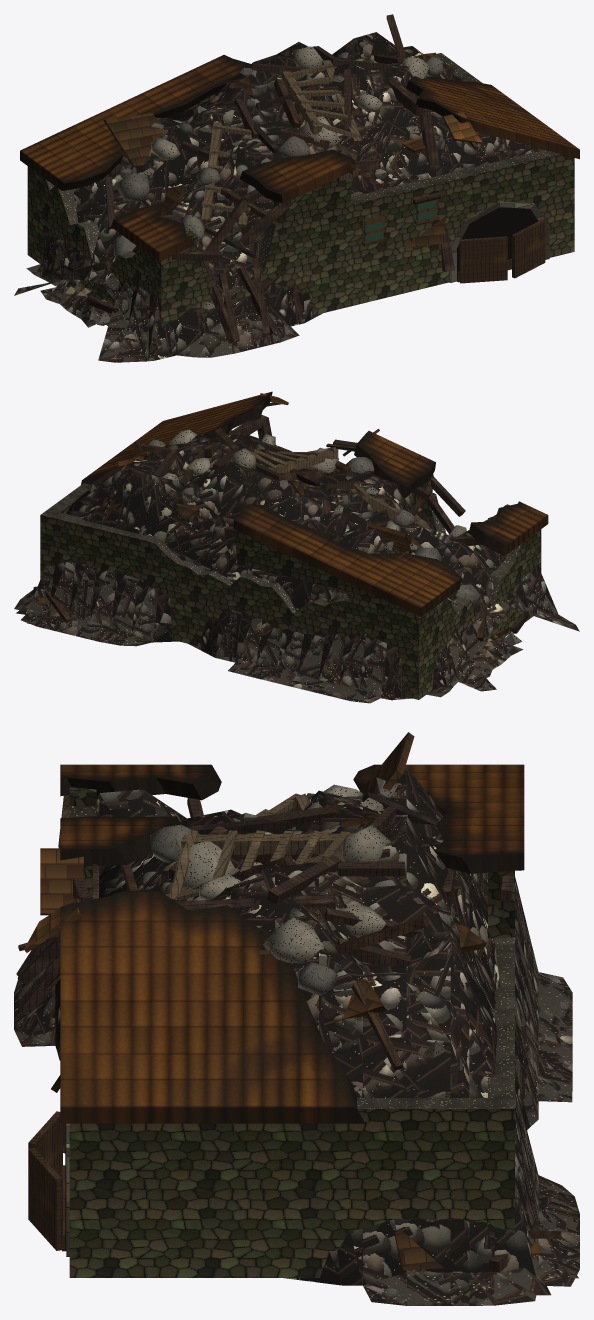
Rendered from CreHouse03a.glb.
3 views of the same model, one above another, from view 1: azimuth 30°, elevation 25°; view 2: azimuth 150°, elevation 25°; view 3: azimuth 270°, elevation 25° (orthographic). The views are drawn at different scales.
Parts seen in each view (by area): view 1: CreHouse03a_rm; view 2: CreHouse03a_rm; view 3: CreHouse03a_rm.
Part boxes in pixels (x1=…): CreHouse03a_rm: x1=14, y1=14, x2=579, y2=362; CreHouse03a_rm: x1=14, y1=391, x2=579, y2=703; CreHouse03a_rm: x1=14, y1=732, x2=579, y2=1305.
Bounding box in the file's own units: 11.75 × 4.28 × 6.98.
Materials: 33 (31 with a texture image).
